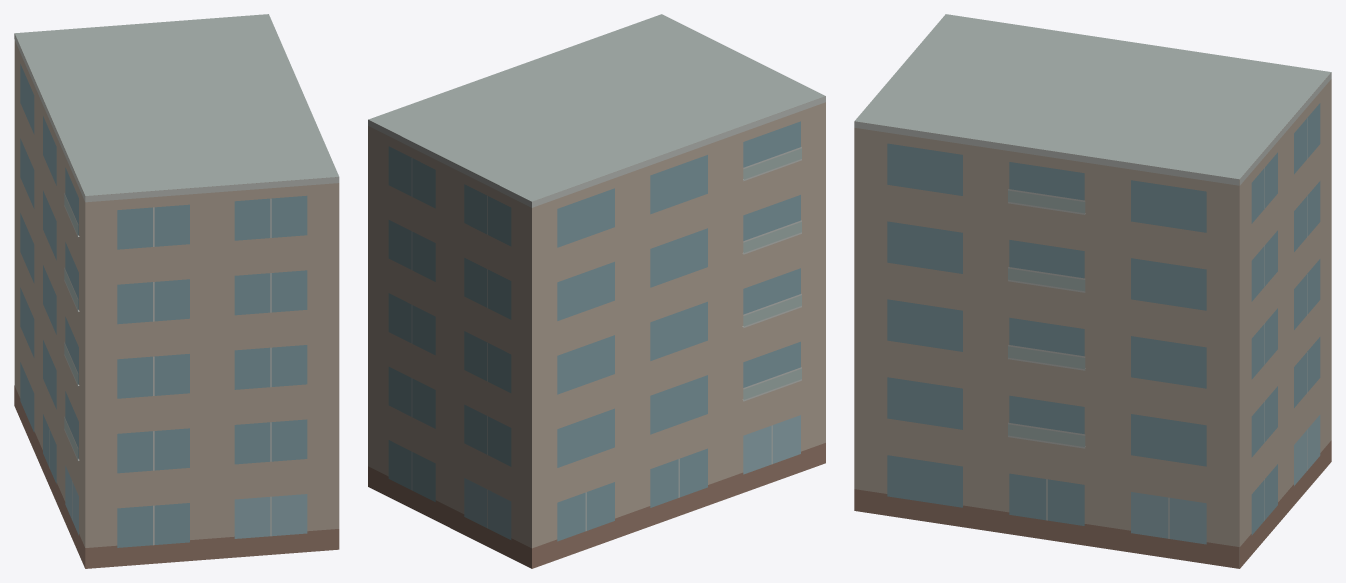
Rendered from survey-upis-32884291.glb.
3 views of the same model, side by side, from view 1: azimuth 30°, elevation 25°; view 2: azimuth 150°, elevation 25°; view 3: azimuth 270°, elevation 25° (orthographic). The views are drawn at different scales.
Parts seen in each view (by area): view 1: survey-upis-32884291.tmp; view 2: survey-upis-32884291.tmp; view 3: survey-upis-32884291.tmp.
Part boxes in pixels (left/top/right/bottom): survey-upis-32884291.tmp: left=14, top=14, right=339, bottom=568; survey-upis-32884291.tmp: left=368, top=14, right=825, bottom=568; survey-upis-32884291.tmp: left=854, top=14, right=1331, bottom=568.
Size of the model in its own units: 13.25 by 14.55 by 16.16.
